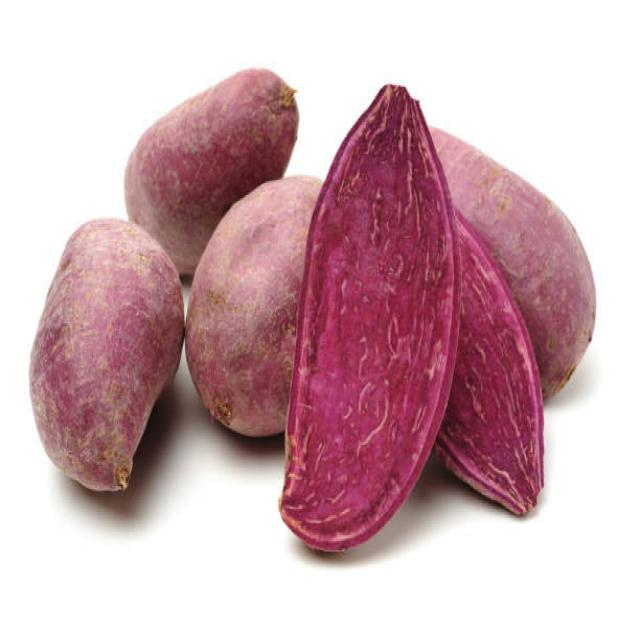Sweet Potato: (283, 78, 461, 563), (29, 215, 185, 492), (187, 207, 288, 436), (466, 274, 546, 520), (122, 71, 295, 181)
